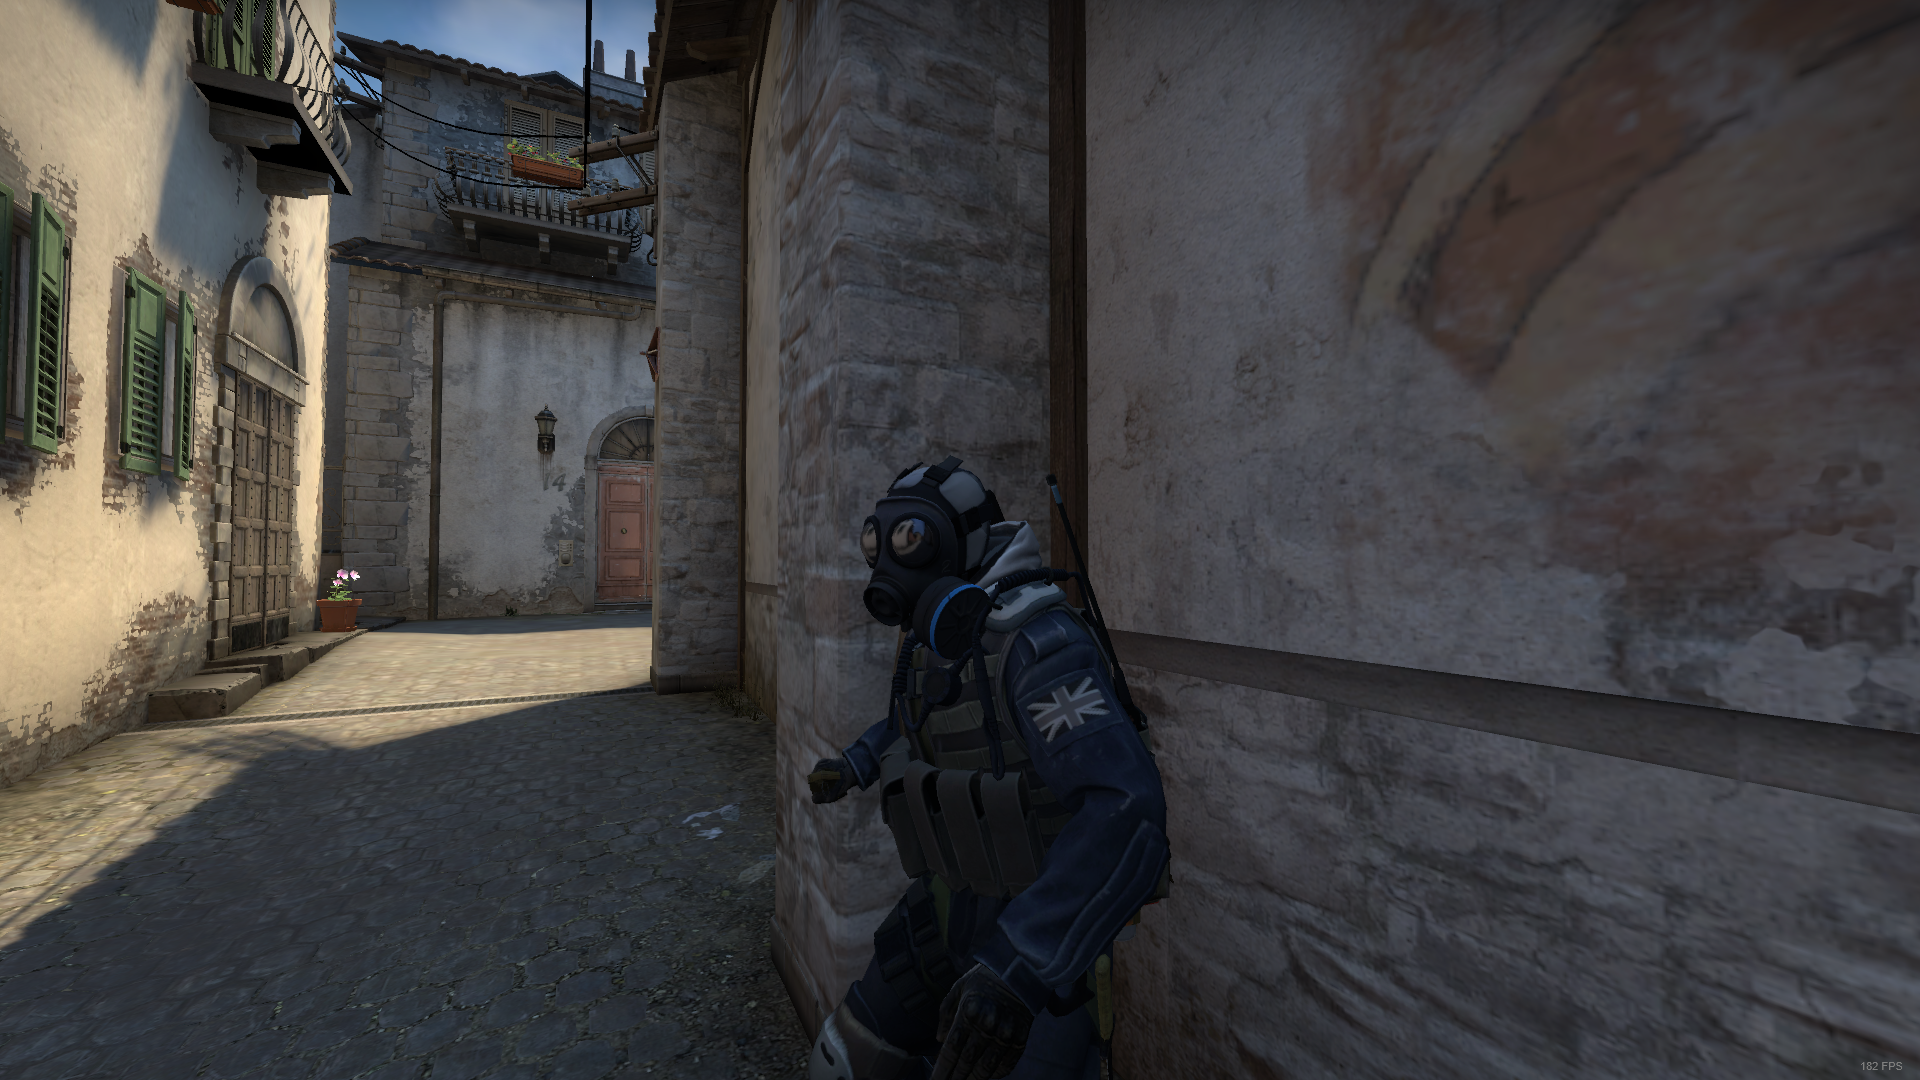ct: (783, 462, 1171, 1080)
